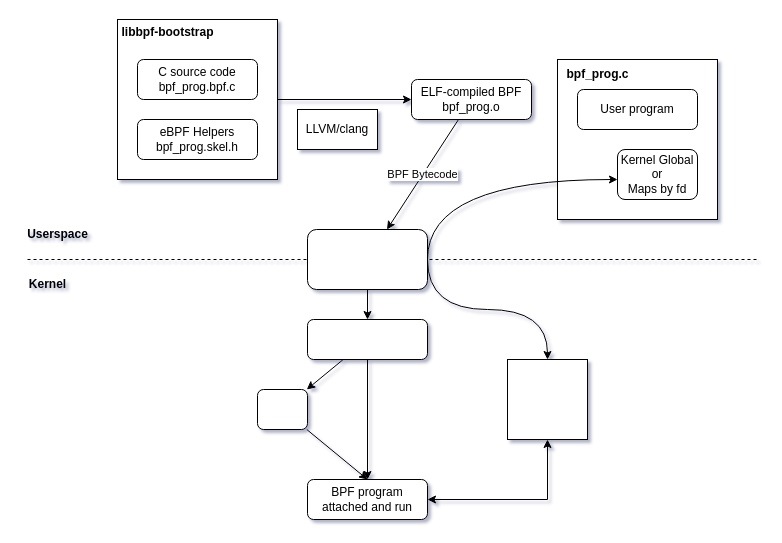
This 782x543 diagram has some shape labels left out. The shapes that lost their labels are listed below. From the top down, each one's centre as x and y in pixels, then its label:
At [367,259]: "bpf() syscall".
At [367,339]: "Verifier".
At [282,409]: "JIT".
At [547,399]: "Maps".
